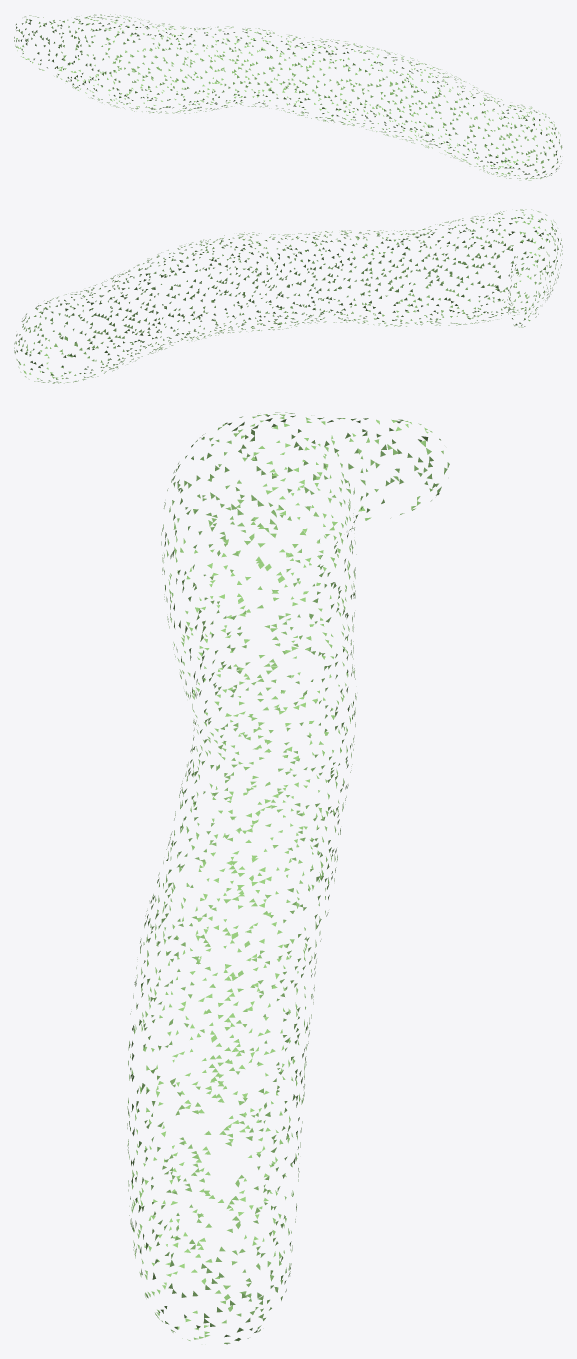
File: morph_014.glb
3 renders of one model, top to bottom at view 1: azimuth 30°, elevation 25°; view 2: azimuth 150°, elevation 25°; view 3: azimuth 270°, elevation 25°, orthographic. The views are drawn at different scales.
Bounding box in the file's own units: 125 × 61.83 × 35.8.
